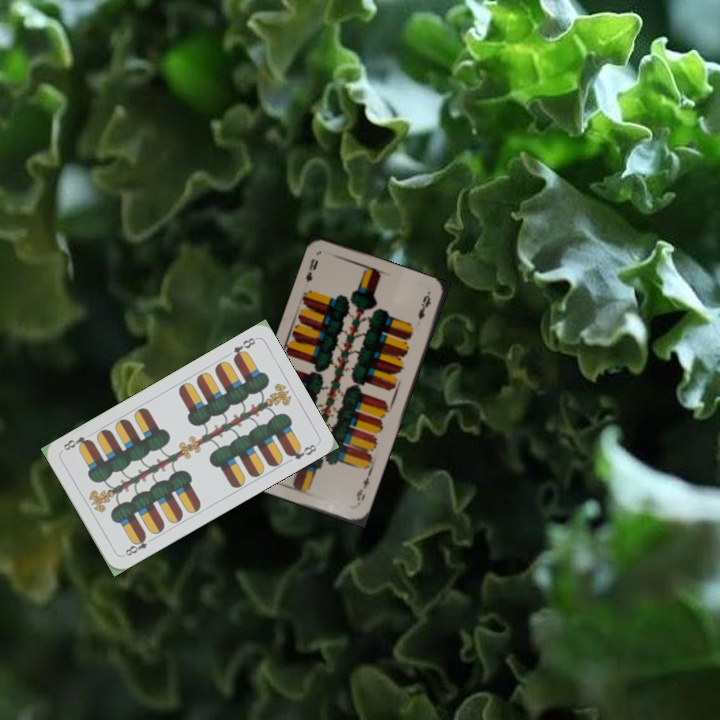E8: (119, 531, 156, 559), (229, 333, 258, 363)
E9: (352, 469, 373, 508), (301, 255, 321, 285)
